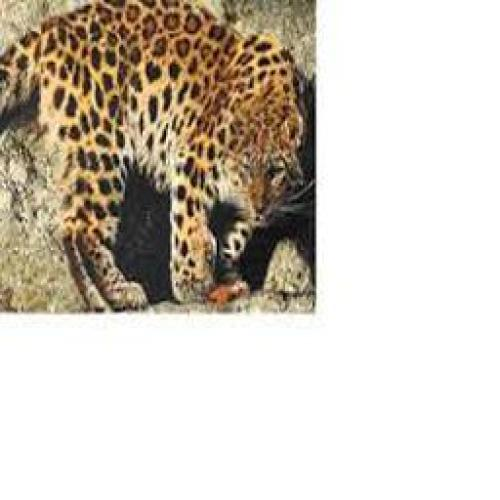amur_leopard-endangered: (9, 8, 308, 307)
